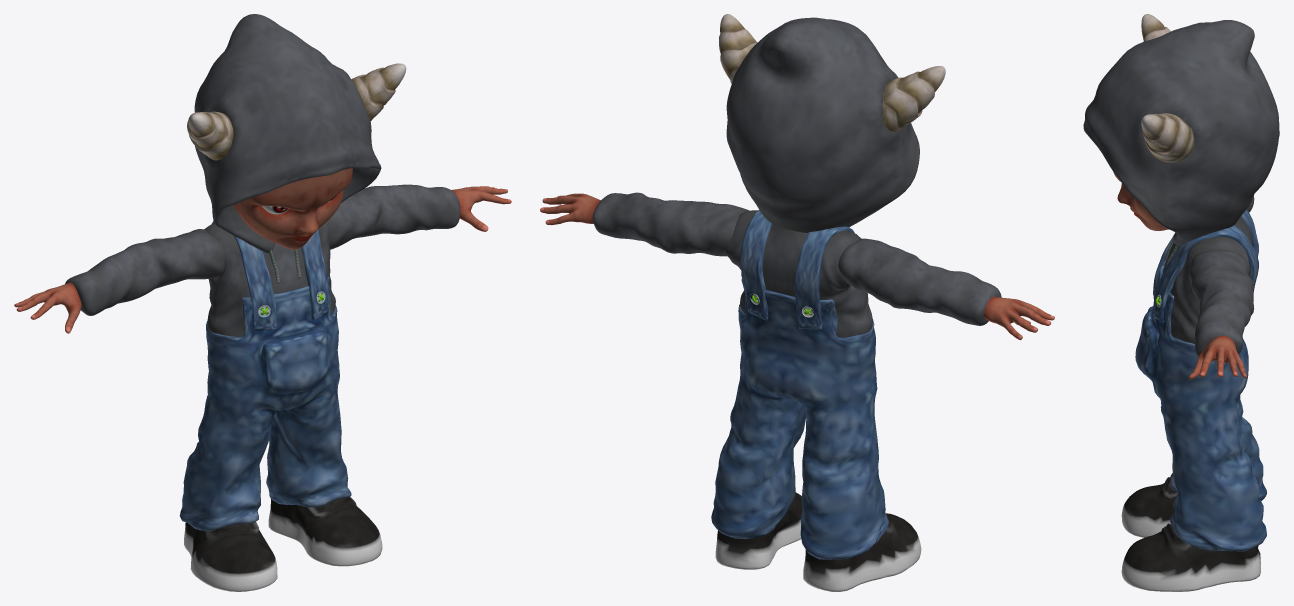
File: diabloplaceho.gltf
The picture shows the model from 3 angles, left to right: view 1: azimuth 30°, elevation 25°; view 2: azimuth 150°, elevation 25°; view 3: azimuth 270°, elevation 25°; orthographic projection. The views are drawn at different scales.
Visible parts, largest first — view 1: diablitotaller_merge_pintado_20, diablitotaller_merge_pintado_5, diablitotaller_merge_pintado_subdividido1, diablitotaller_merge_pintado_15, diablitotaller_merge_pintado_9, diablitotaller_merge_pintado_7, diablitotaller_merge_pintado_11, diablitotaller_merge_pintado_subdividido1_1_nuevo; view 2: diablitotaller_merge_pintado_20, diablitotaller_merge_pintado_5, diablitotaller_merge_pintado_subdividido1, diablitotaller_merge_pintado_15, diablitotaller_merge_pintado_7, diablitotaller_merge_pintado_11, diablitotaller_merge_pintado_subdividido1_1_nuevo; view 3: diablitotaller_merge_pintado_5, diablitotaller_merge_pintado_20, diablitotaller_merge_pintado_15, diablitotaller_merge_pintado_subdividido1, diablitotaller_merge_pintado_7, diablitotaller_merge_pintado_11, diablitotaller_merge_pintado_subdividido1_1_nuevo, diablitotaller_merge_pintado_9.
Boxes of the visible parts, <box> form: diablitotaller_merge_pintado_20: <box>179,221,351,530</box>; diablitotaller_merge_pintado_5: <box>194,14,381,253</box>; diablitotaller_merge_pintado_subdividido1: <box>65,184,460,315</box>; diablitotaller_merge_pintado_15: <box>184,497,382,591</box>; diablitotaller_merge_pintado_9: <box>233,168,352,249</box>; diablitotaller_merge_pintado_7: <box>204,222,335,337</box>; diablitotaller_merge_pintado_11: <box>187,63,406,160</box>; diablitotaller_merge_pintado_subdividido1_1_nuevo: <box>14,186,511,333</box>; diablitotaller_merge_pintado_20: <box>711,210,888,559</box>; diablitotaller_merge_pintado_5: <box>726,17,919,232</box>; diablitotaller_merge_pintado_subdividido1: <box>592,192,1001,325</box>; diablitotaller_merge_pintado_15: <box>715,492,921,591</box>; diablitotaller_merge_pintado_7: <box>724,210,872,337</box>; diablitotaller_merge_pintado_11: <box>719,14,945,131</box>; diablitotaller_merge_pintado_subdividido1_1_nuevo: <box>540,193,1054,340</box>; diablitotaller_merge_pintado_5: <box>1083,20,1279,246</box>; diablitotaller_merge_pintado_20: <box>1135,209,1266,551</box>; diablitotaller_merge_pintado_15: <box>1121,477,1260,591</box>; diablitotaller_merge_pintado_subdividido1: <box>1188,195,1254,356</box>; diablitotaller_merge_pintado_7: <box>1163,217,1252,343</box>; diablitotaller_merge_pintado_11: <box>1141,14,1194,162</box>; diablitotaller_merge_pintado_subdividido1_1_nuevo: <box>1188,335,1246,379</box>; diablitotaller_merge_pintado_9: <box>1113,172,1168,230</box>.
Bounding box in the file's own units: 11.32 × 11.53 × 3.88.
